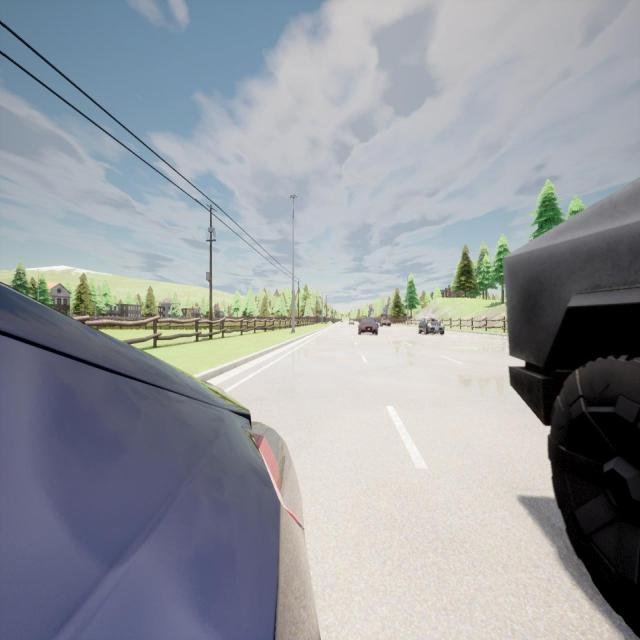Vehicle: (1, 283, 321, 640), (504, 177, 640, 640), (418, 318, 445, 334), (359, 318, 378, 336), (380, 315, 391, 327), (348, 318, 354, 328)
